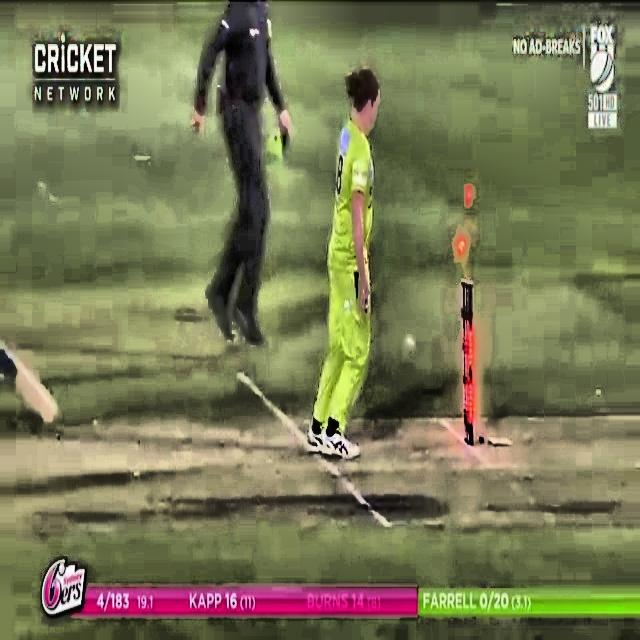Ball: (397, 327, 421, 353)
Bat: (0, 342, 66, 424)
Dis_Wicket: (444, 233, 486, 450)
Pitch_Line: (234, 367, 320, 454), (317, 453, 392, 531)
